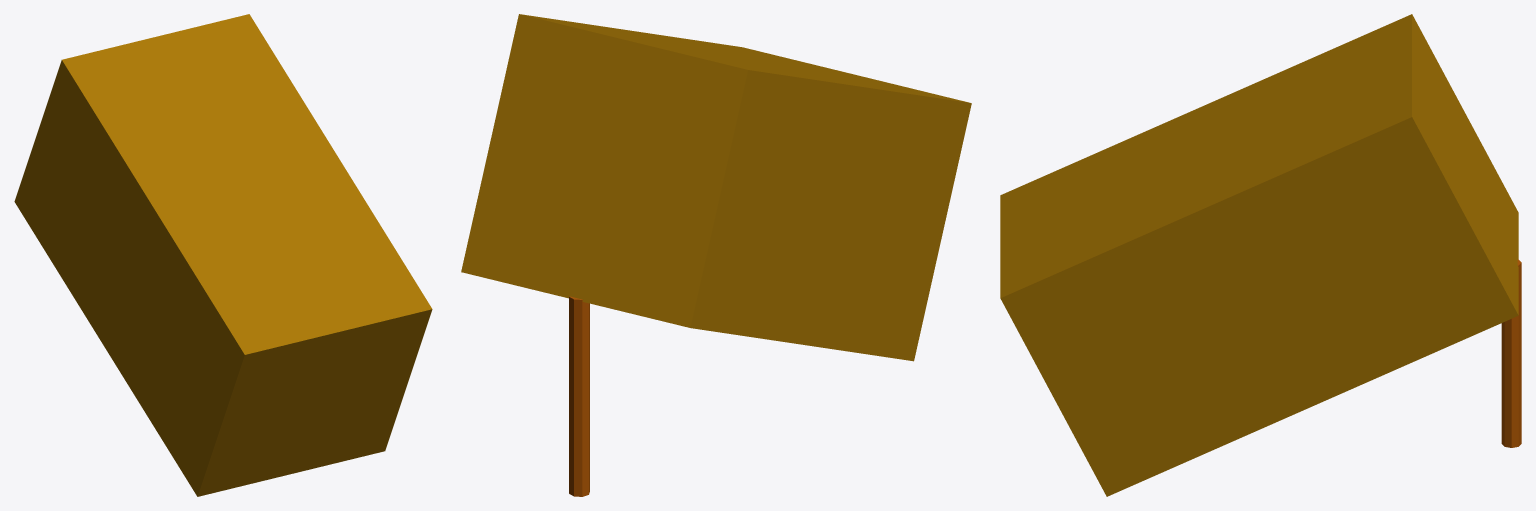
File: box_trap.glb
3 renders of one model, left to right at view 1: azimuth 30°, elevation 25°; view 2: azimuth 150°, elevation 25°; view 3: azimuth 270°, elevation 25°, orthographic. The views are drawn at different scales.
Visible parts, largest first — view 1: box; view 2: box, trap_stick; view 3: box, trap_stick.
Boxes of the visible parts, <box> form: box: <box>14,14,432,496</box>; box: <box>461,14,971,361</box>; trap_stick: <box>569,296,589,496</box>; box: <box>1000,14,1518,496</box>; trap_stick: <box>1501,259,1521,447</box>.
Size of the model in its own units: 1.22 by 2.1 by 2.6.
